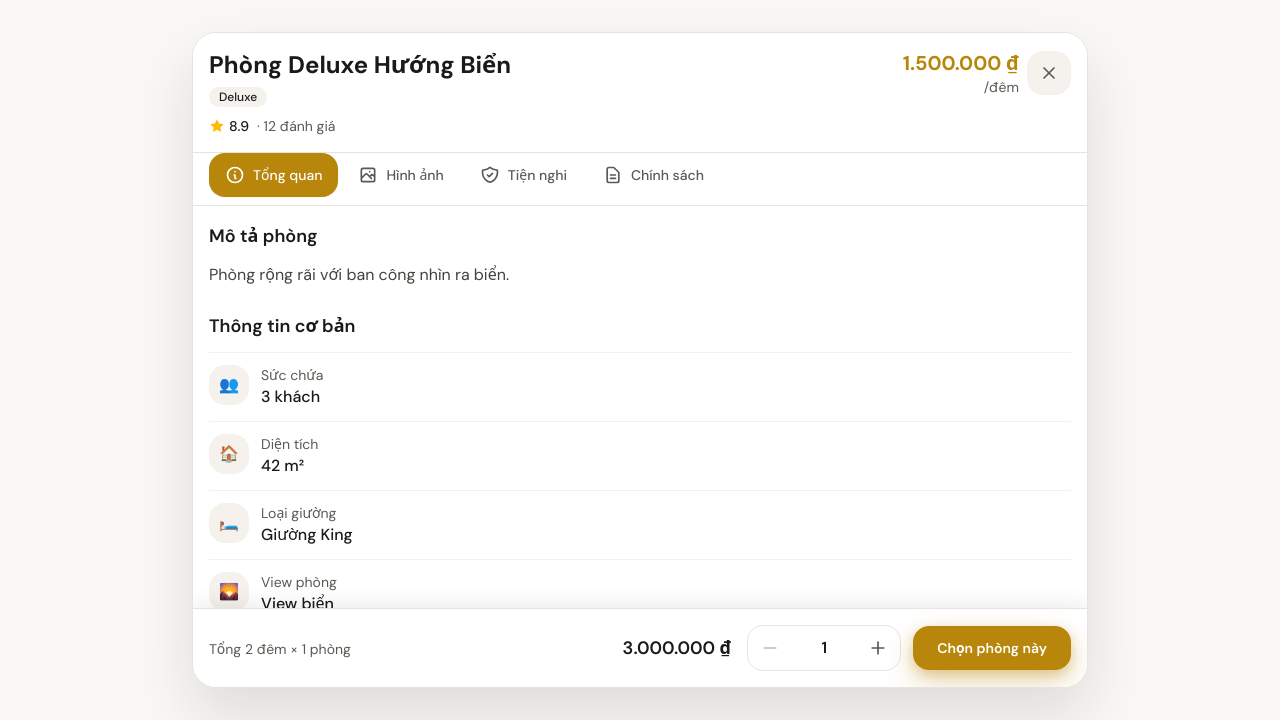
Test: RoomDetailModal — tabs › switches to the policies tab and shows check-in/out times
The width and height of the screenshot is (1280, 720).
Click the tab "Chính sách" at x=653, y=175, box [587,153,720,197]
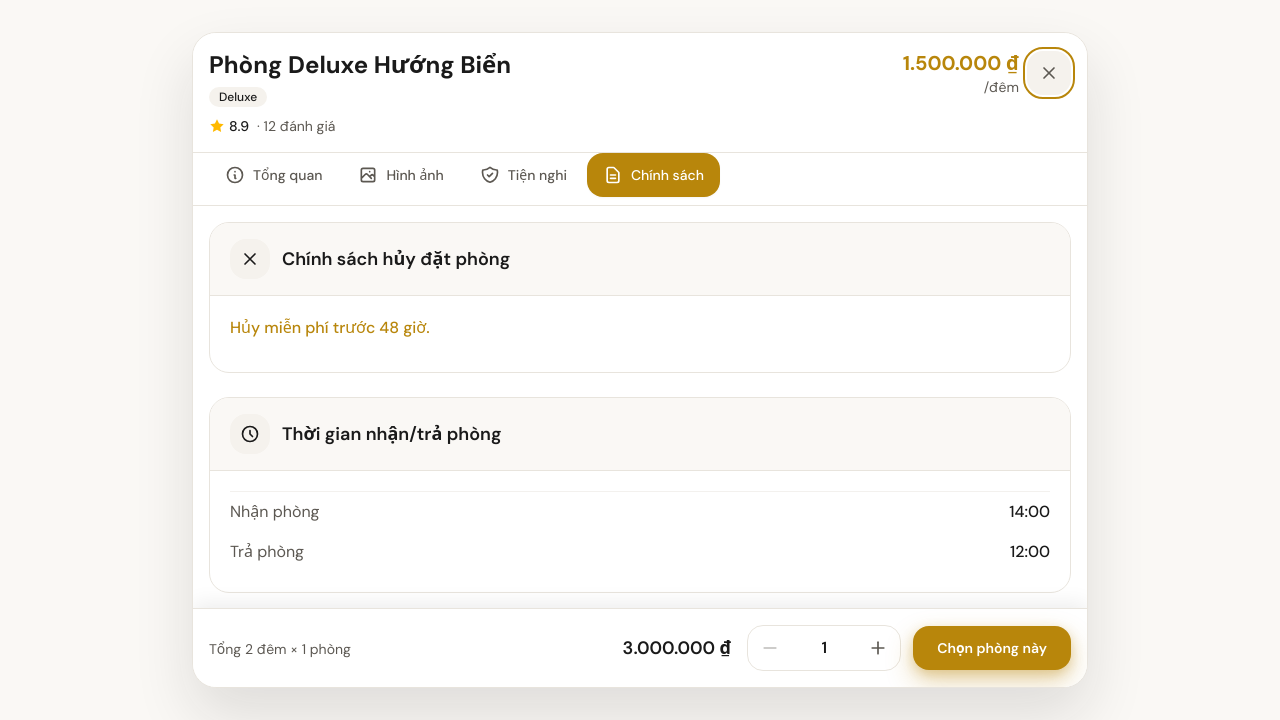
Check: the heading "Chính sách hủy đặt phòng" is shown, box [282,245,510,273]
Check: the text "14:00" is shown, box [1009,500,1050,524]
